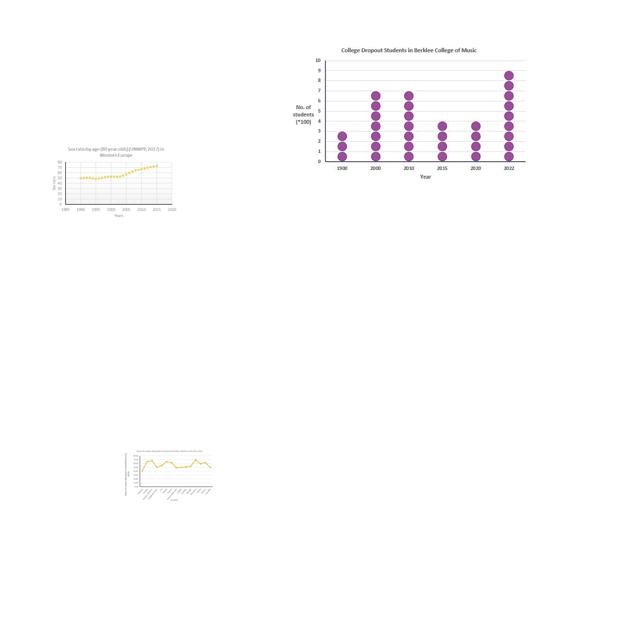Graph: (287, 43, 530, 186), (48, 144, 178, 220), (123, 448, 214, 502)
